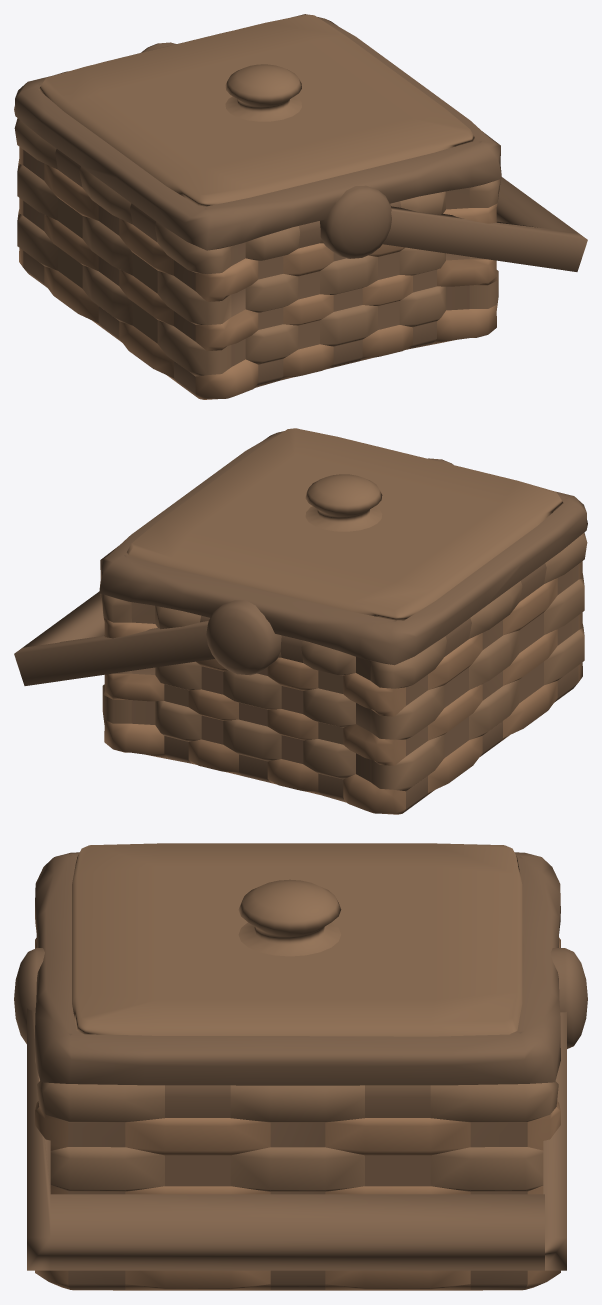
The model's file is PicnicBasket.fbx.
The picture shows the model from 3 angles, top to bottom: view 1: azimuth 30°, elevation 25°; view 2: azimuth 150°, elevation 25°; view 3: azimuth 270°, elevation 25°; orthographic projection. The views are drawn at different scales.
Parts seen in each view (by area): view 1: polySurface2; view 2: polySurface2; view 3: polySurface2.
Part boxes in pixels (box(x1,y1,x2,y2)): polySurface2: box(14, 14, 587, 399); polySurface2: box(14, 428, 587, 814); polySurface2: box(14, 843, 587, 1290).
Bounding box in the file's own units: 4.82 × 2.78 × 4.63.
